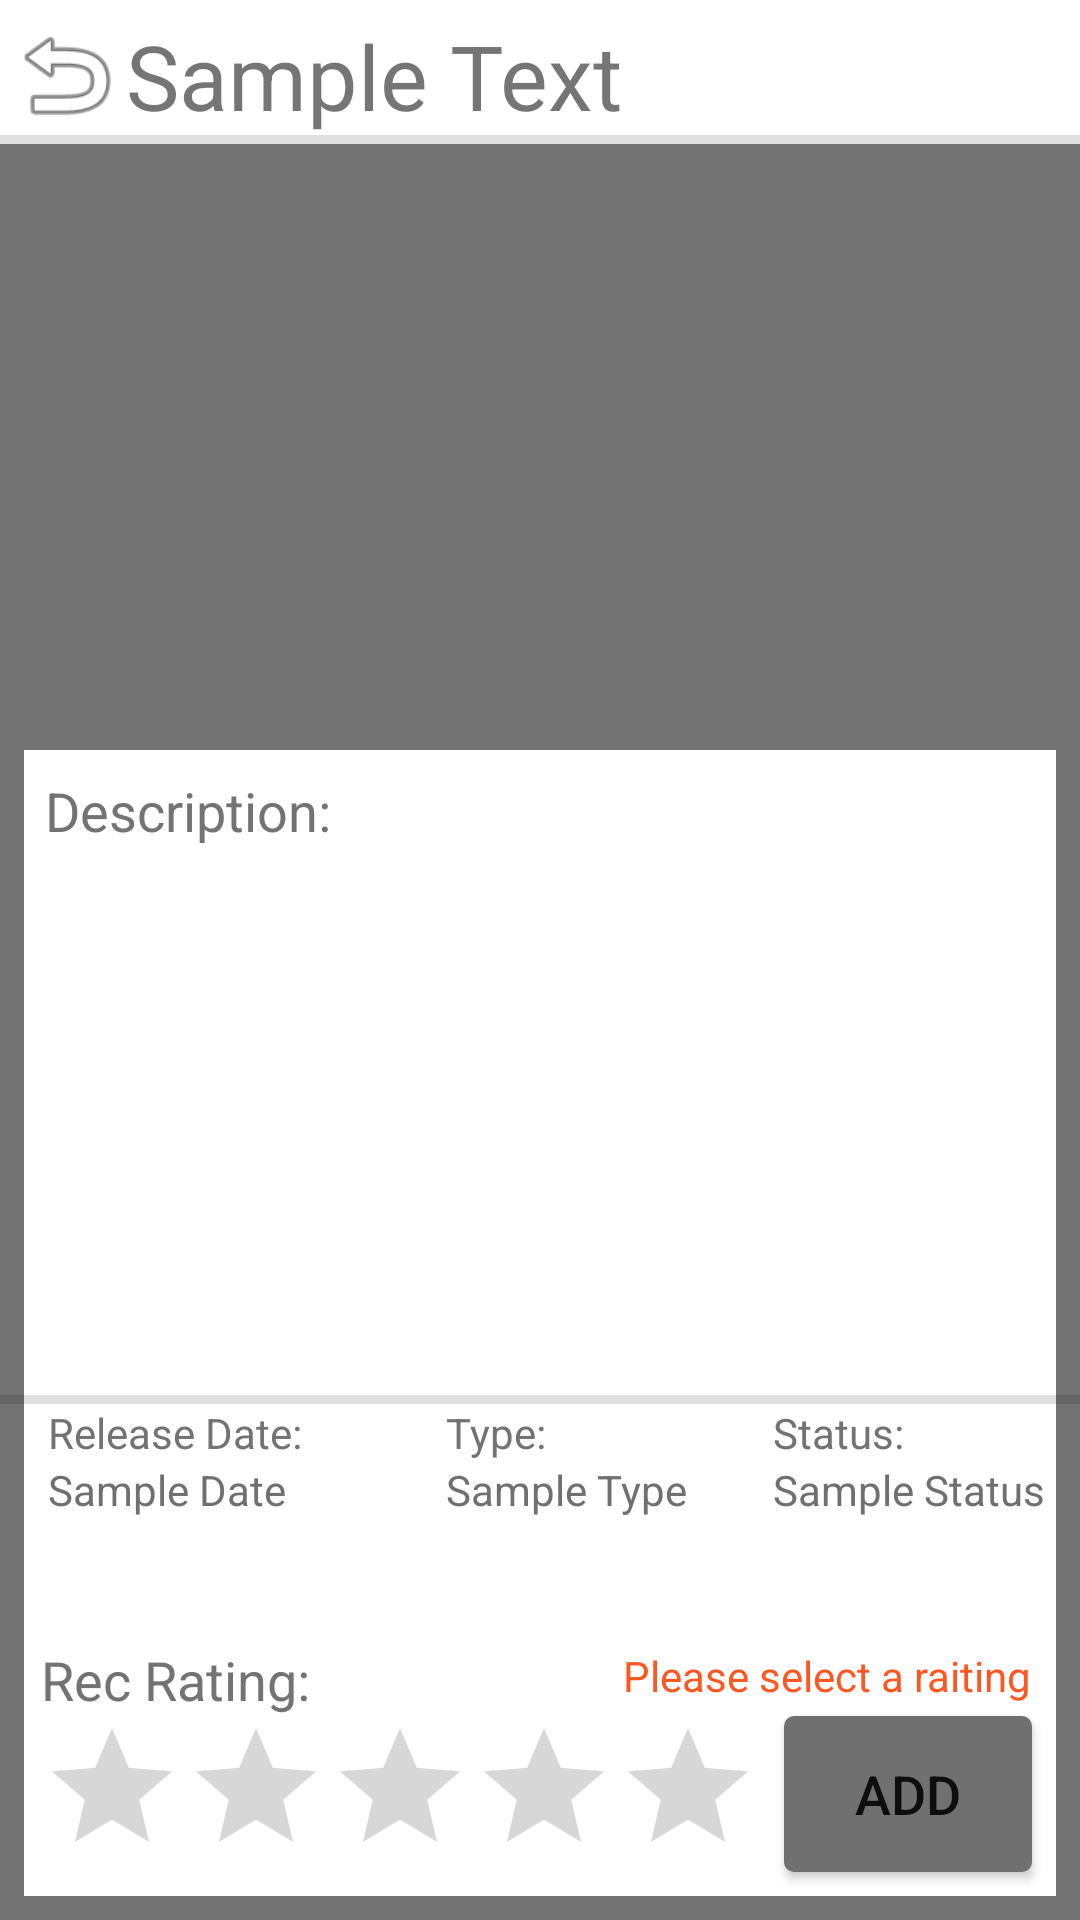

Locate icon controls on the screen. Image size 1080x1920, boxes as [x1=x1, y1=y1, x2=x2, y2=y2].
revert: [x1=24, y1=36, x2=111, y2=115]
